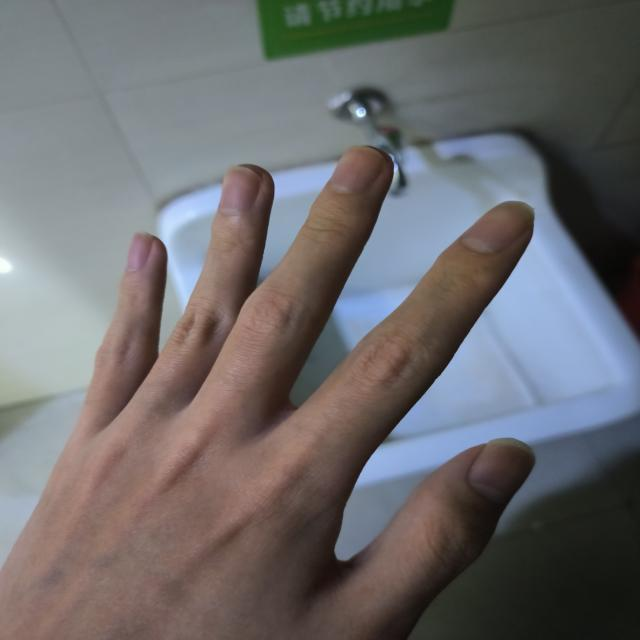Nail: (466, 437, 534, 501), (461, 201, 534, 253), (331, 146, 386, 192), (220, 167, 262, 214), (128, 231, 152, 269)
